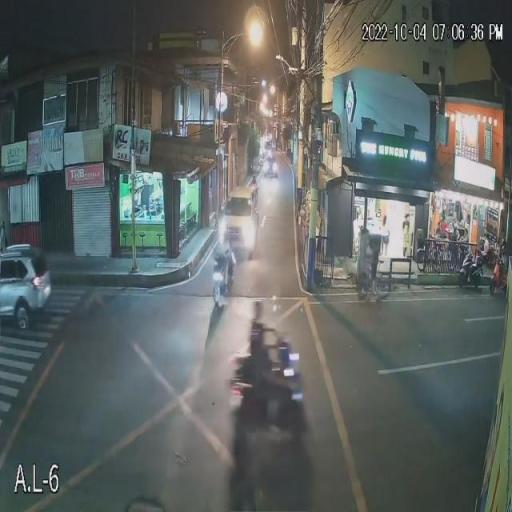helmet: (252, 296, 267, 322)
motorcycle: (223, 348, 314, 434)
rider: (248, 313, 271, 398)
